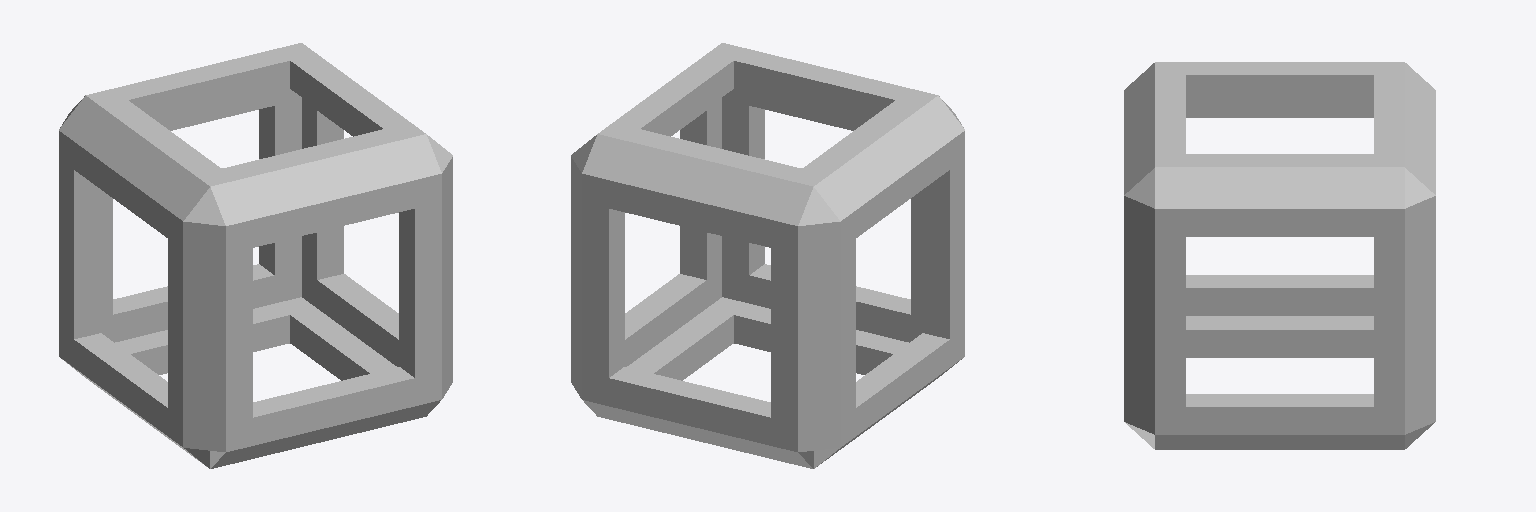
File: item.obj
3 views of the same model, side by side, from view 1: azimuth 30°, elevation 25°; view 2: azimuth 150°, elevation 25°; view 3: azimuth 270°, elevation 25° (orthographic).
Parts seen in each view (by area): view 1: TS.008, top.019, TS.011, top.017, top.013, top.005, tw.001, TS.009, top.009, top.004, top.023, top.003 (+21 smaller); view 2: TS.005, top.008, TS.004, top.018, top.006, top.022, tw, TS.009, top.009, top.004, top.011, top.014 (+21 smaller); view 3: top.010, TS, top.002, top.009, top.015, top.007, top.020, top, TS.002, TS.007, tw.002, tw.003 (+11 smaller).
Boxes of the visible parts, <box> form: TS.008: <box>183,250,225,423</box>; top.019: <box>399,202,441,377</box>; TS.011: <box>238,141,414,219</box>; top.017: <box>253,367,414,445</box>; top.013: <box>59,159,100,338</box>; top.005: <box>114,49,289,120</box>; tw.001: <box>168,169,252,254</box>; TS.009: <box>74,107,194,209</box>; top.009: <box>74,333,167,435</box>; top.004: <box>290,54,410,135</box>; top.023: <box>253,180,414,247</box>; top.003: <box>226,248,252,423</box>; TS.005: <box>798,250,840,423</box>; top.008: <box>582,202,624,377</box>; TS.004: <box>609,141,785,219</box>; top.018: <box>609,367,770,445</box>; top.006: <box>923,159,964,338</box>; top.022: <box>734,49,909,120</box>; tw: <box>771,169,855,254</box>; TS.009: <box>829,107,949,209</box>; top.009: <box>856,333,949,435</box>; top.004: <box>613,54,733,135</box>; top.011: <box>609,180,770,247</box>; top.014: <box>771,248,797,423</box>; top.010: <box>1186,316,1373,357</box>; TS: <box>1186,167,1373,208</box>; top.002: <box>1186,394,1373,434</box>; top.009: <box>1186,275,1373,315</box>; top.015: <box>1186,62,1373,102</box>; top.007: <box>1374,237,1404,406</box>; top.020: <box>1155,237,1185,406</box>; top: <box>1186,209,1373,236</box>; TS.002: <box>1405,224,1435,405</box>; TS.007: <box>1124,224,1154,405</box>; tw.002: <box>1124,154,1185,236</box>; tw.003: <box>1374,154,1435,236</box>.
Size of the model in its own units: 0.625 by 0.625 by 0.625.